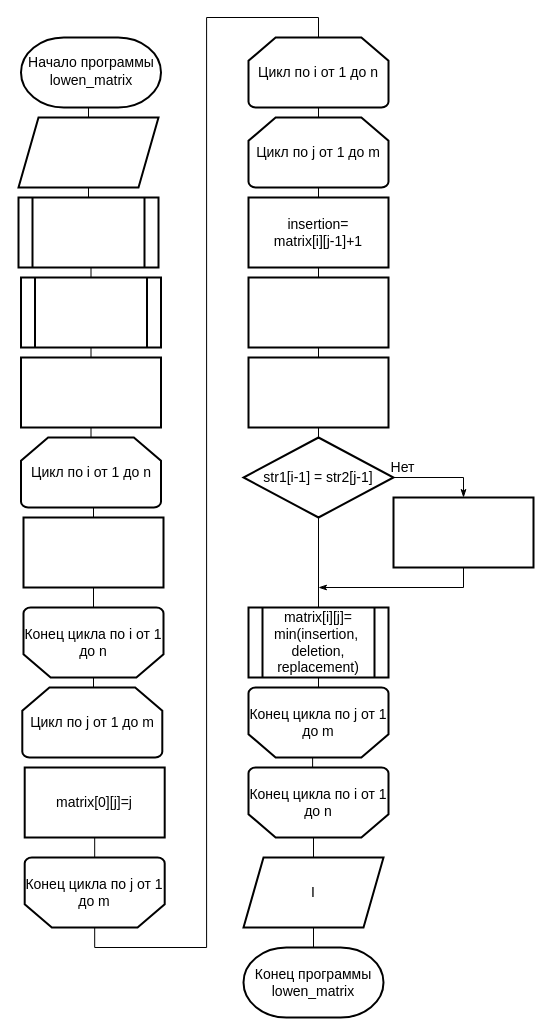
The diagram is 551 pixels wide and 1036 high, and some of its shapes have lost their labels. Here are the shapes that lost their labels. From the top down, the centre of each, then its label:
At (88,152): "str1, str2".
At (88,232): "n = len(str1) + 1".
At (91,312): "m = len(str2) + 1".
At (318,312): "deletion= matrix[i-1][j]+1".
At (91,392): "matrix = int(0)[n][m]".
At (318,392): "replacement= matrix[i-1][j-1]".
At (93,552): "matrix[i][0]=i".
At (463,532): "replacement= replacement + 1".
